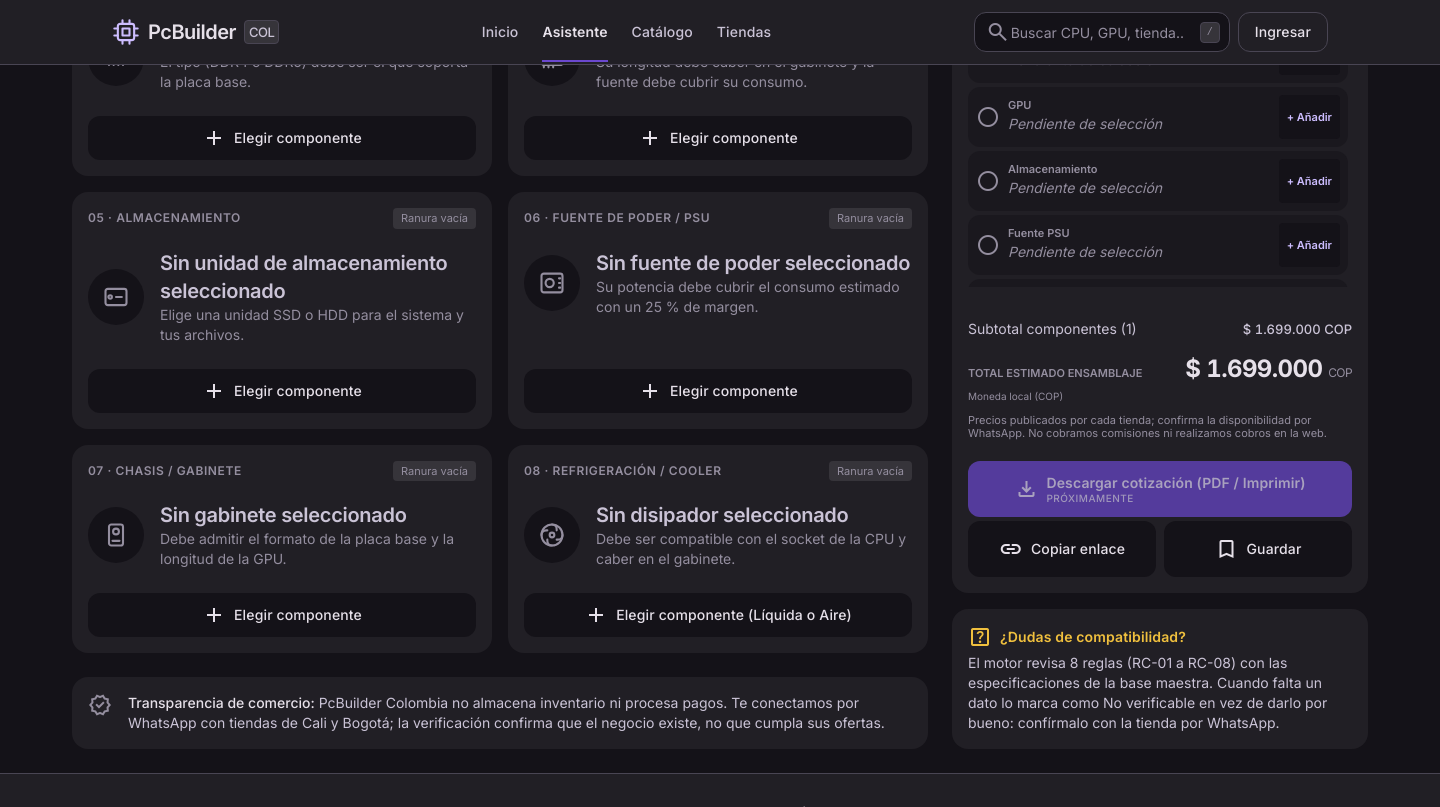
Asistente: compartir sin sesión › si el servidor limita las creaciones muestra el motivo
(page scrolled)
Click the button "Copiar enlace": {"x": 1062, "y": 549} [968,521,1156,577]
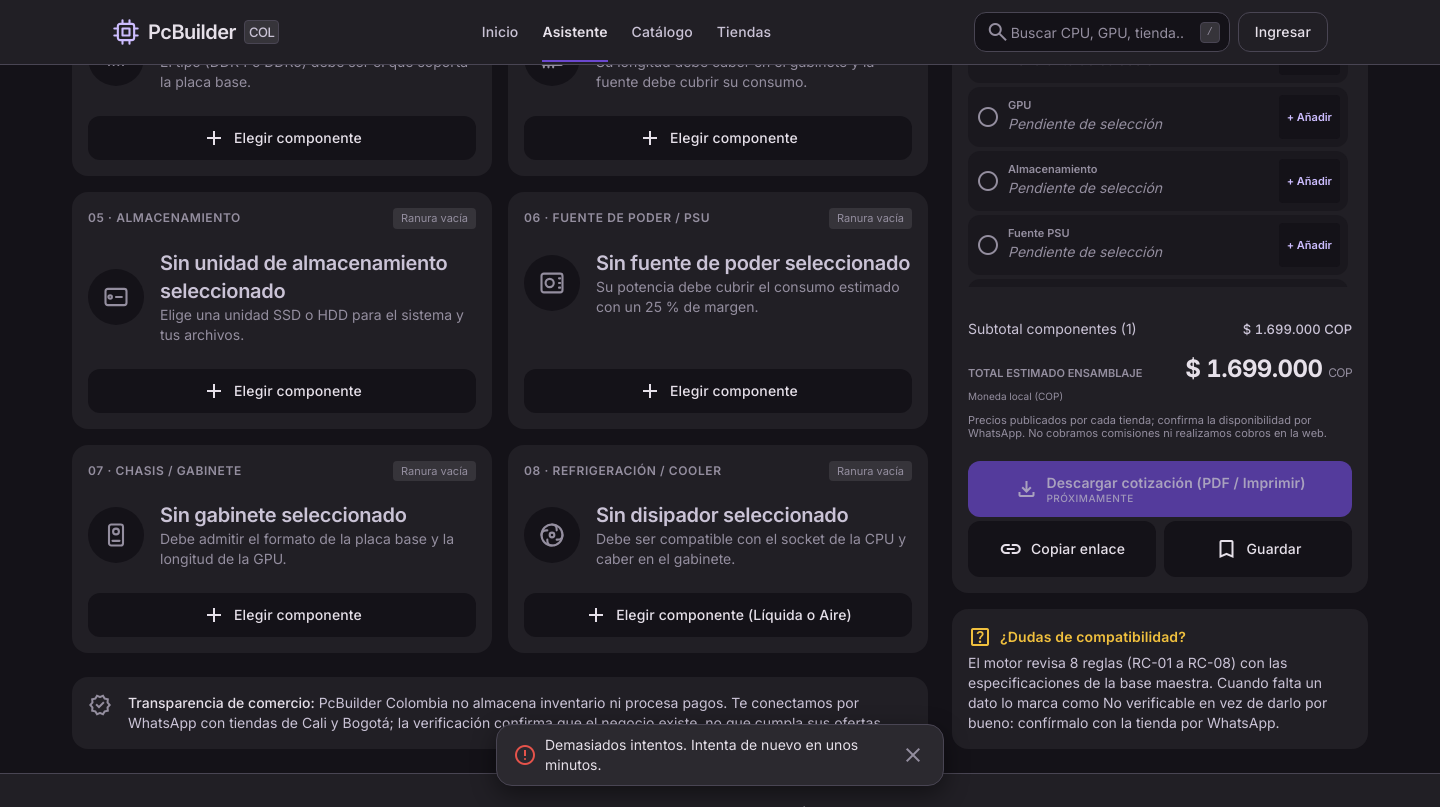
Expected: the text "Demasiados intentos. Intenta de nuevo en unos minutos." is shown, [545,735,883,775]
